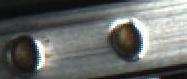joints: (104, 15, 145, 62), (4, 31, 44, 74)
